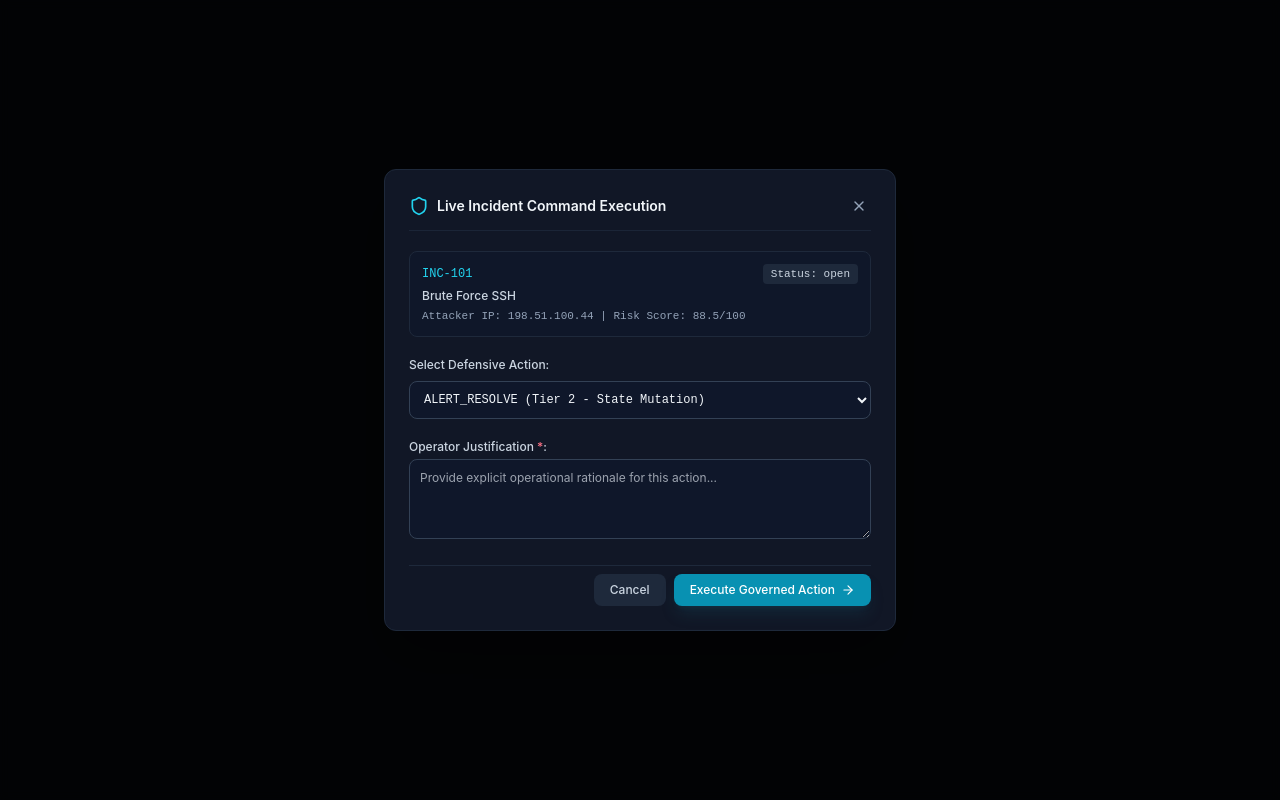
it: Module 3.4 Live Incident Command & Governance Components › renders CommandExecutionModal and validates justification requirement for Level 2/3 actions
Expected: the heading "Live Incident Command Execution" is shown, [437,196,666,216]
Expected: the text "INC-101" is shown, [422,266,472,282]
// Click execute without justification triggers validation error
What coordinates should you click on to do the following:
click the button "Execute Governed Action"
I would click on:
 (772, 590)
Its box is [674,574,871,606].
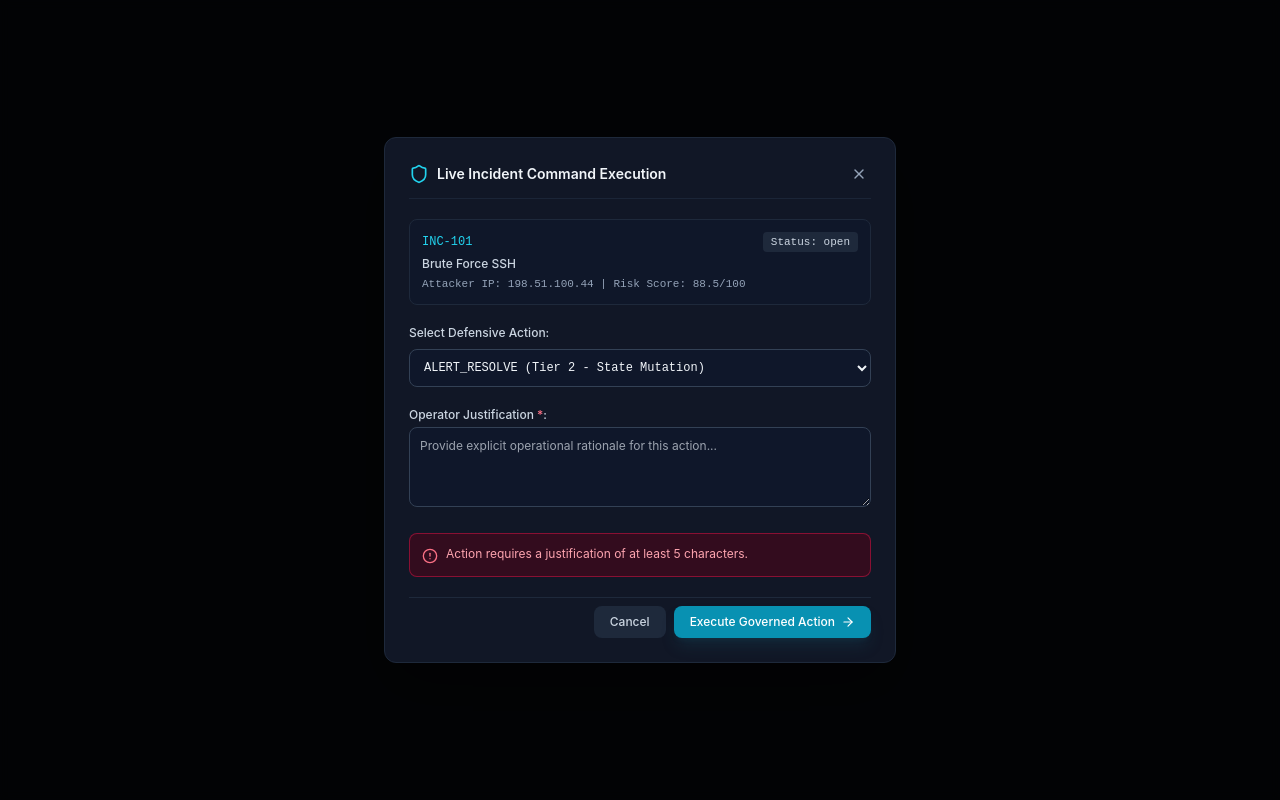
Expected: the text "Action requires a justification of at least 5 characters." is shown, [446,546,748,562]
